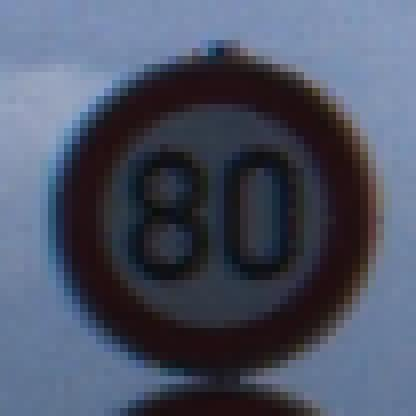Speed Limit -80-: (63, 28, 382, 385)
